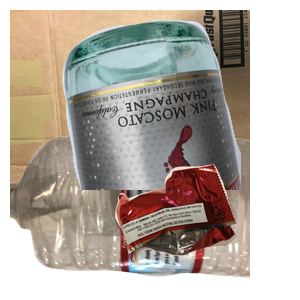cardboard: (10, 10, 250, 190)
glass: (60, 17, 300, 197)
plastic: (10, 134, 250, 300)
trash: (113, 162, 300, 300)
